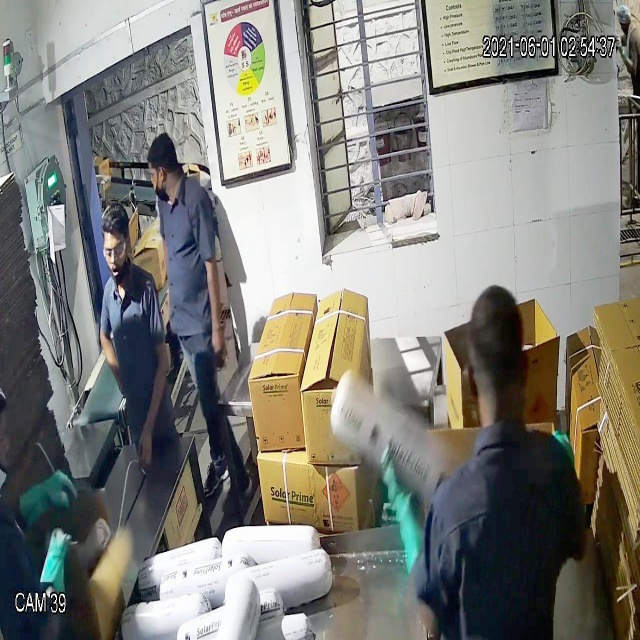Gafas: (96, 231, 136, 270)
